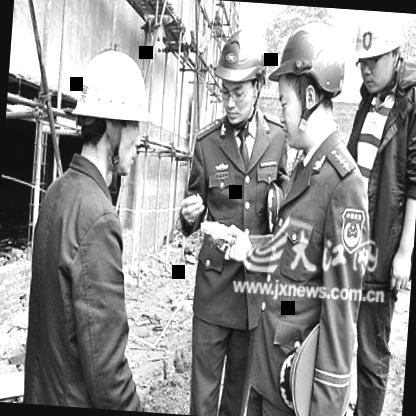helmet: (68, 40, 154, 179), (274, 17, 348, 154), (212, 18, 268, 124), (350, 10, 406, 98)
